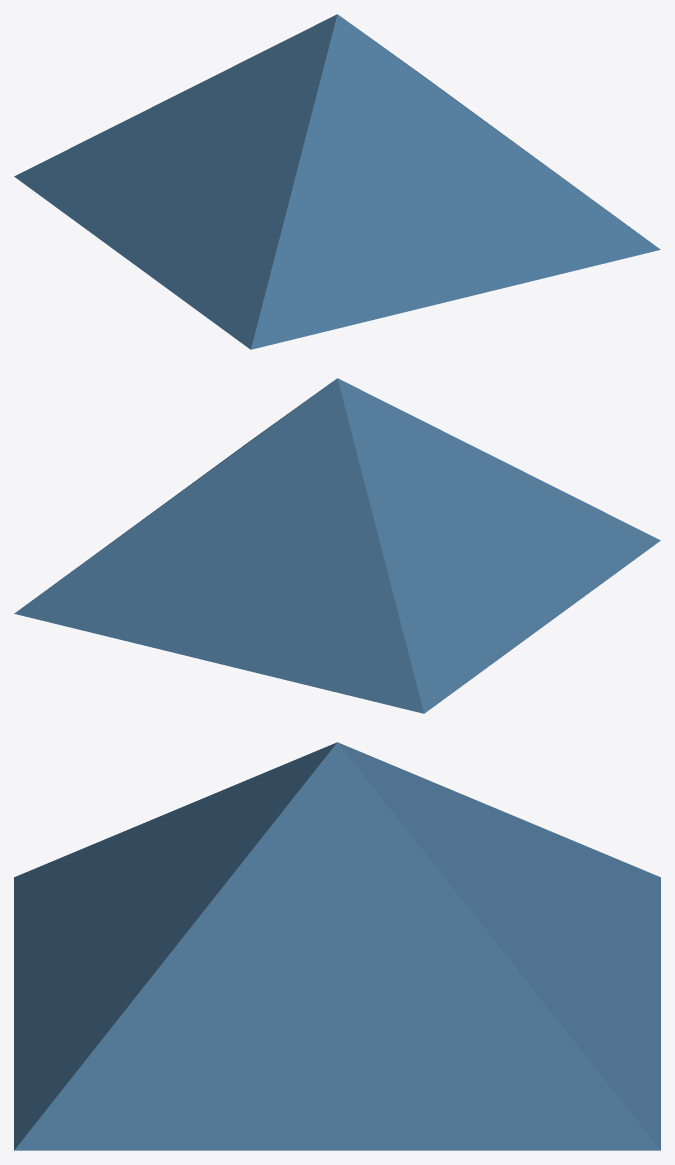
The model's file is cati 1.2.fbx.
3 renders of one model, top to bottom at view 1: azimuth 30°, elevation 25°; view 2: azimuth 150°, elevation 25°; view 3: azimuth 270°, elevation 25°, orthographic. The views are drawn at different scales.
Visible parts, largest first — view 1: pPyramid3; view 2: pPyramid3; view 3: pPyramid3.
Part boxes in pixels (x1,y1,x2,y2): pPyramid3: (14, 14, 660, 349); pPyramid3: (14, 378, 660, 713); pPyramid3: (14, 742, 660, 1150).
Size of the model in its own units: 1944 by 902 by 1944.
